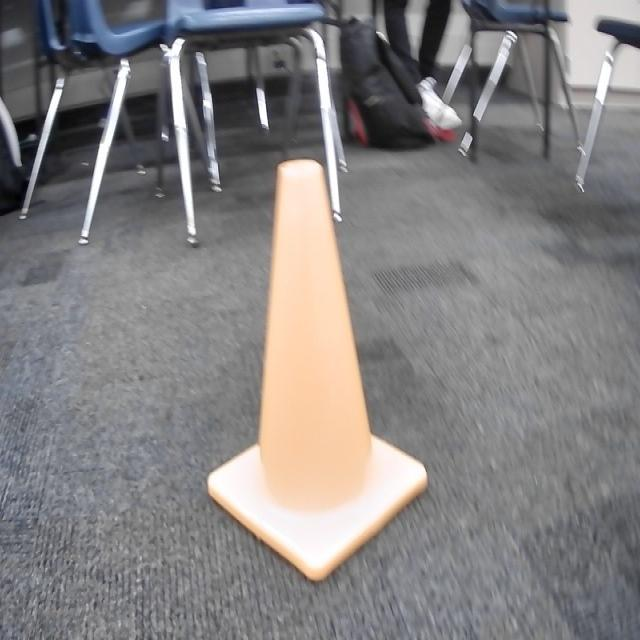cone: (206, 157, 430, 586)
